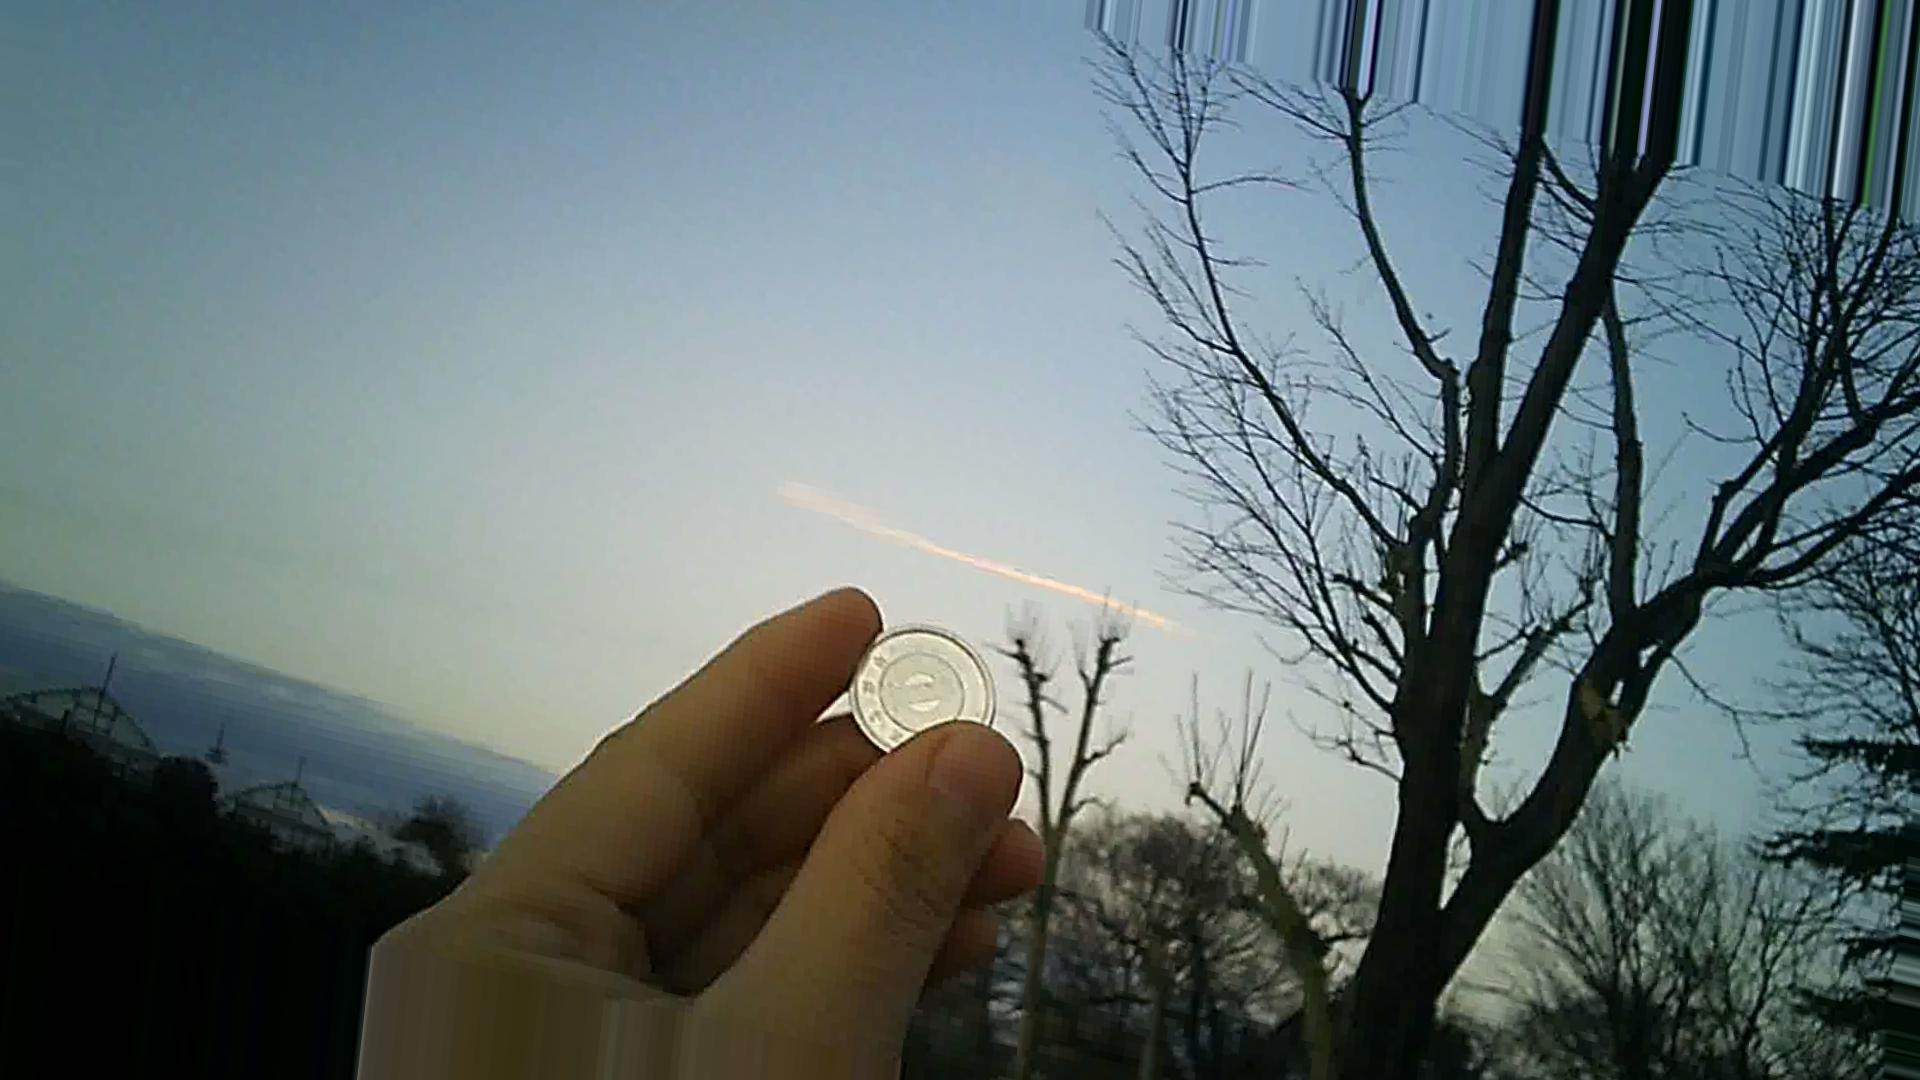1 Yen: (844, 618, 996, 761)
